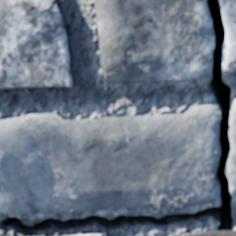brick: (0, 0, 73, 90), (73, 234, 103, 235)
broken_brick: (0, 105, 220, 213), (95, 0, 214, 83), (218, 0, 235, 72), (225, 99, 235, 195), (178, 230, 235, 235)
crack: (0, 0, 234, 235)
